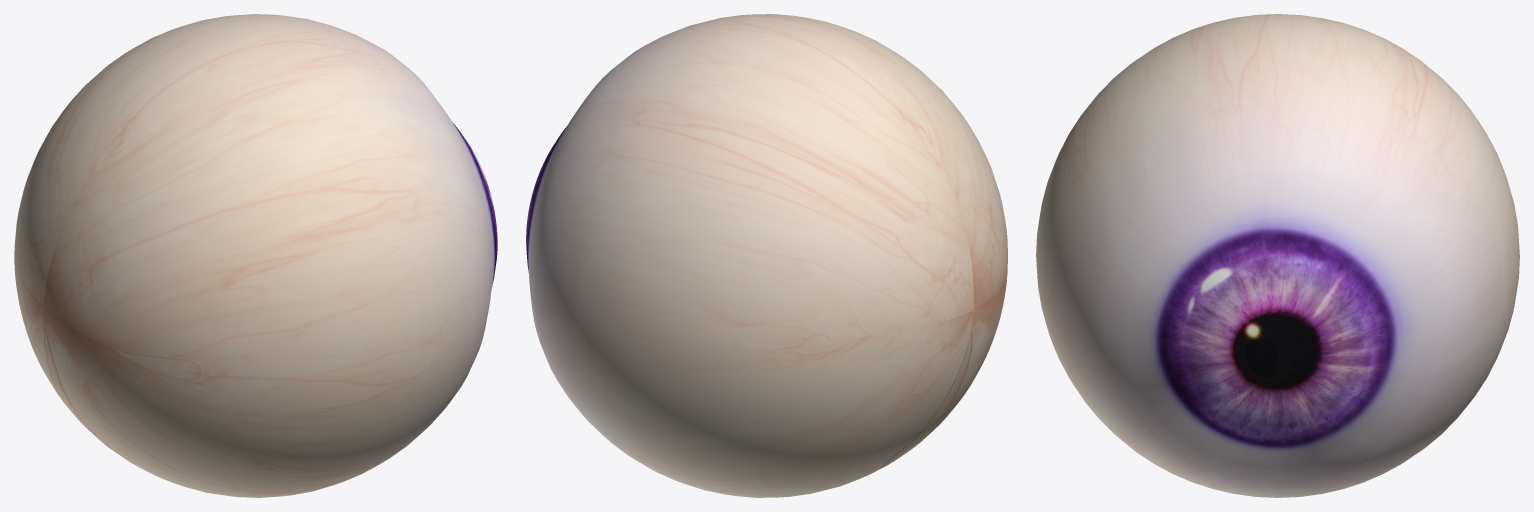
The model's file is asset.gltf.
3 renders of one model, left to right at view 1: azimuth 30°, elevation 25°; view 2: azimuth 150°, elevation 25°; view 3: azimuth 270°, elevation 25°, orthographic.
Parts seen in each view (by area): view 1: Sphere; view 2: Sphere; view 3: Sphere.
Boxes of the visible parts, x1,y1,x2,y2 form: Sphere: (14,14,497,497); Sphere: (526,14,1007,497); Sphere: (1036,14,1519,497).
Bounding box in the file's own units: 2 × 1.98 × 1.98.
1 material, 1 textured.
